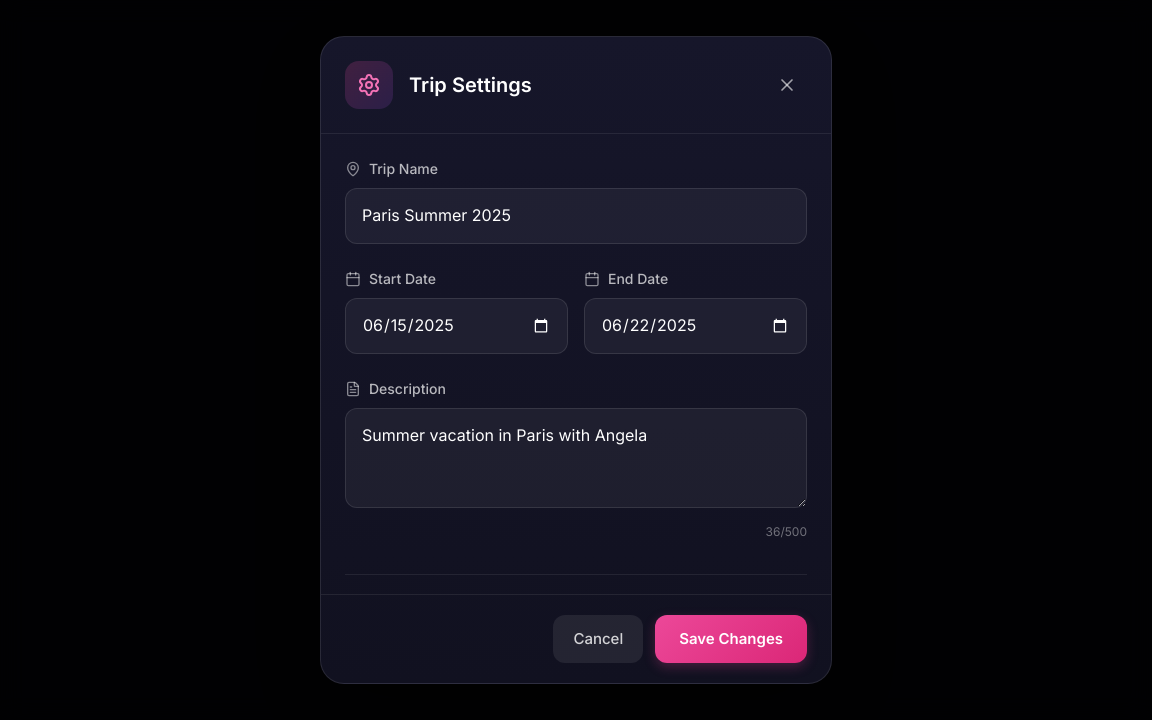
TripSettingsModal › should disable save button when name is empty
The width and height of the screenshot is (1152, 720).
Clear the field showing "Paris Summer 2025" at (576, 216), box [345, 188, 807, 244]
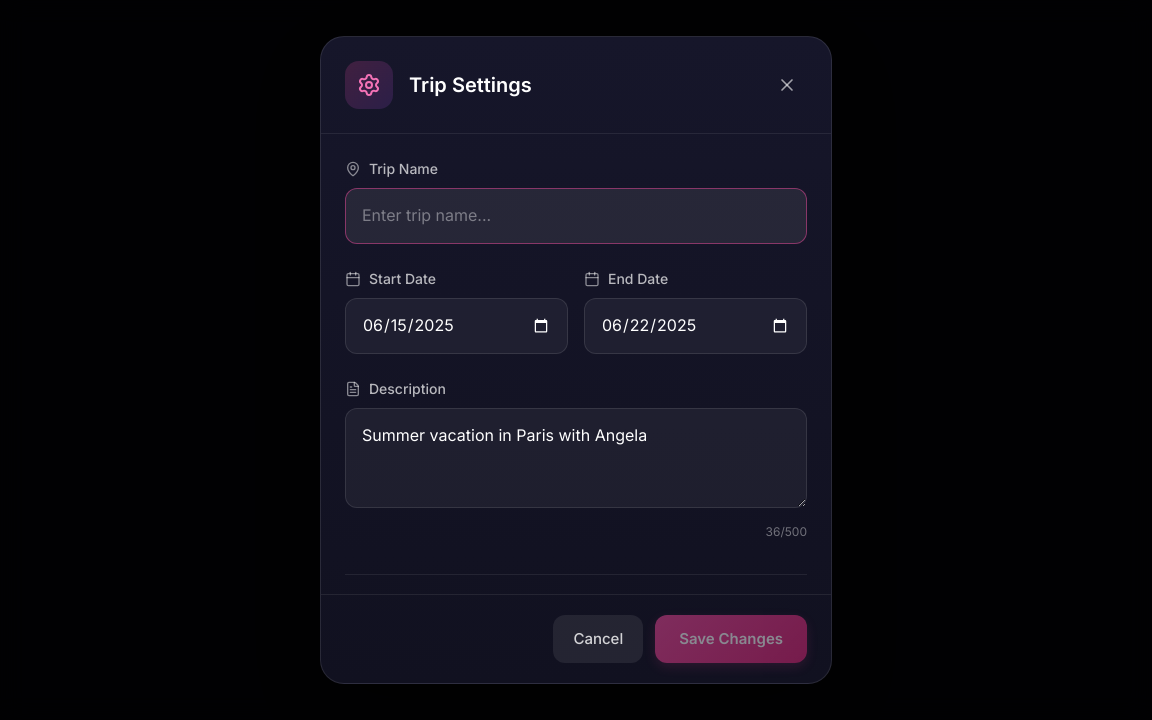
Expected: the button "Save Changes" is disabled, [655, 615, 807, 663]
